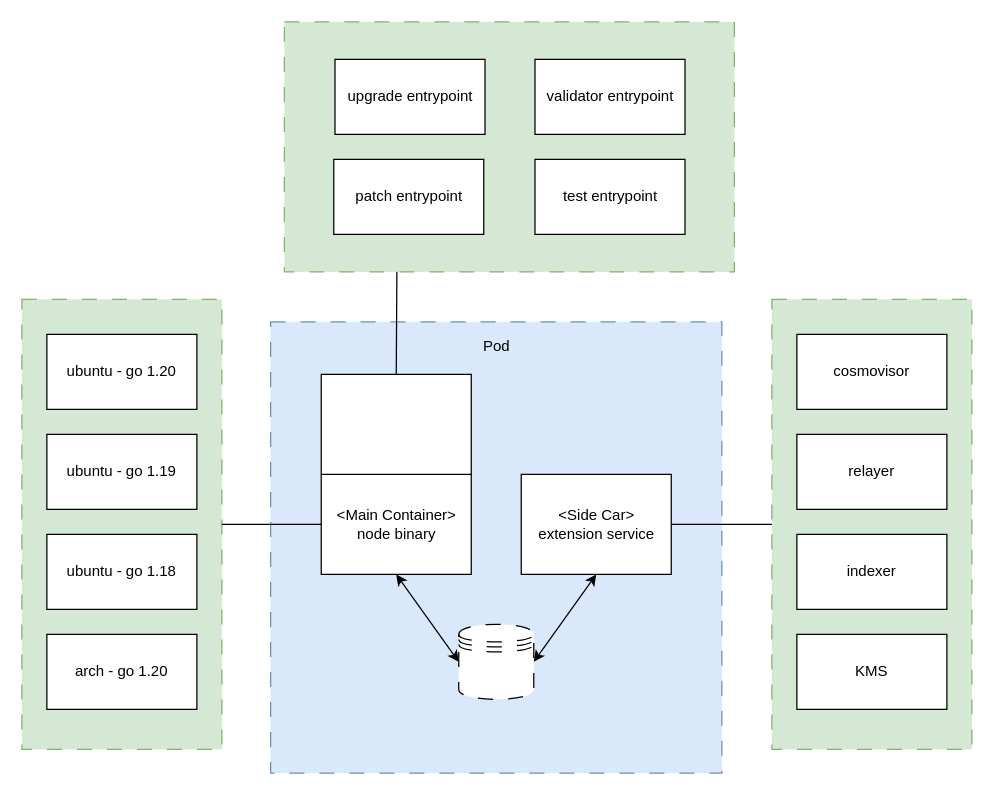
Some shapes in this 994 by 795 pixel diagram are drawn without their labels. The shapes that lost their labels are listed below. From the top down, each one's box as (x1, y1, x2, y2) in pixels, then its label:
(320, 373, 471, 474): <Init Container> entrypoint script
(458, 623, 534, 699): PVC
